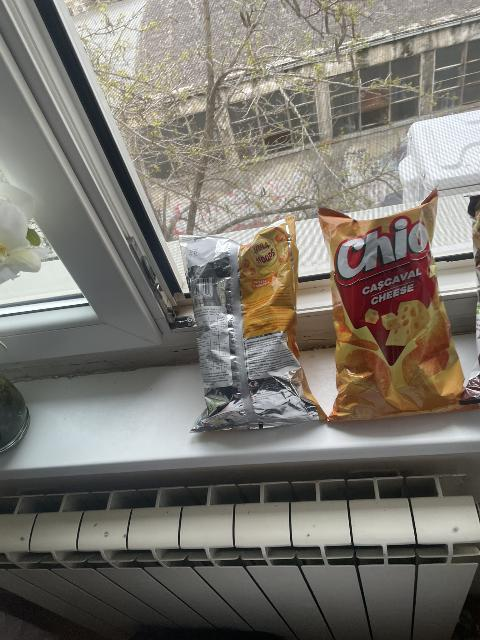Chio Cascaval 125g: (320, 195, 472, 419)
Chio Hula Hoops Cheese 70g: (182, 222, 316, 430)
